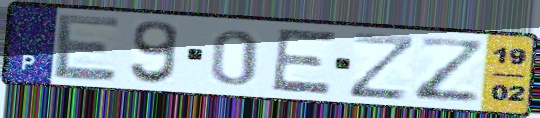0: (208, 28, 266, 87)
9: (130, 19, 183, 86)
E: (52, 11, 123, 83), (268, 26, 340, 97)
Z: (412, 34, 490, 104), (345, 31, 420, 102)
